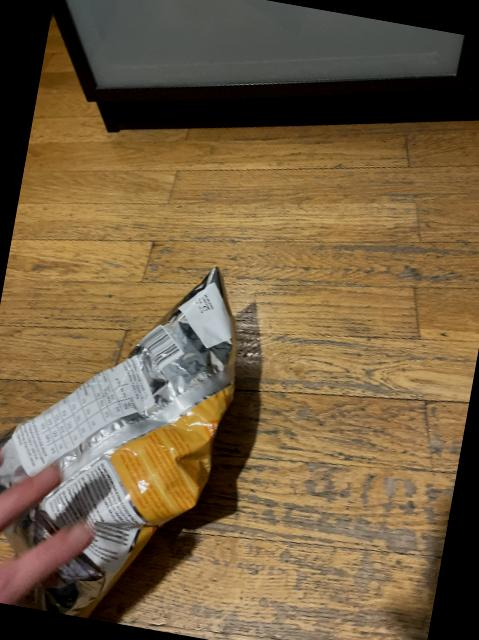Chio Hula Hoops Cheese 70g: (0, 238, 259, 637)
